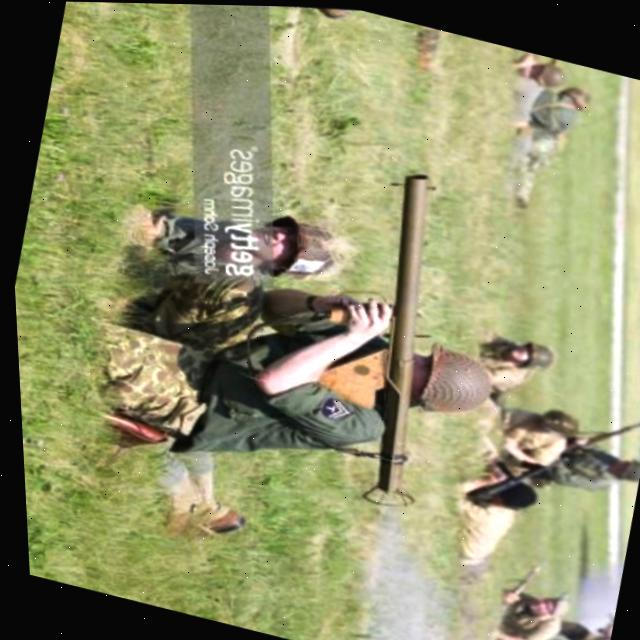rocket: (274, 148, 512, 524)
